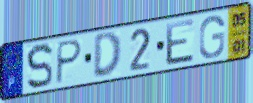2: (128, 26, 152, 74)
D: (91, 30, 123, 79)
E: (164, 17, 196, 68)
G: (198, 14, 226, 60)
P: (54, 38, 84, 87)
S: (25, 42, 54, 92)
